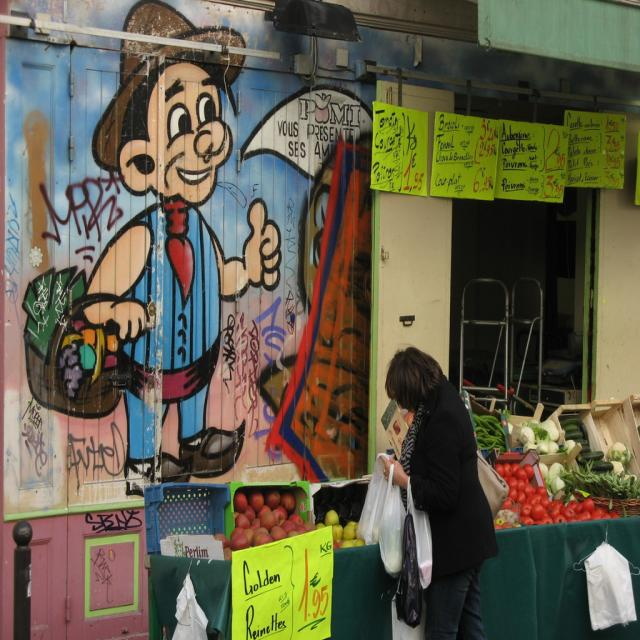Healty Apple: (214, 492, 316, 558), (316, 511, 366, 547), (261, 511, 277, 530)
